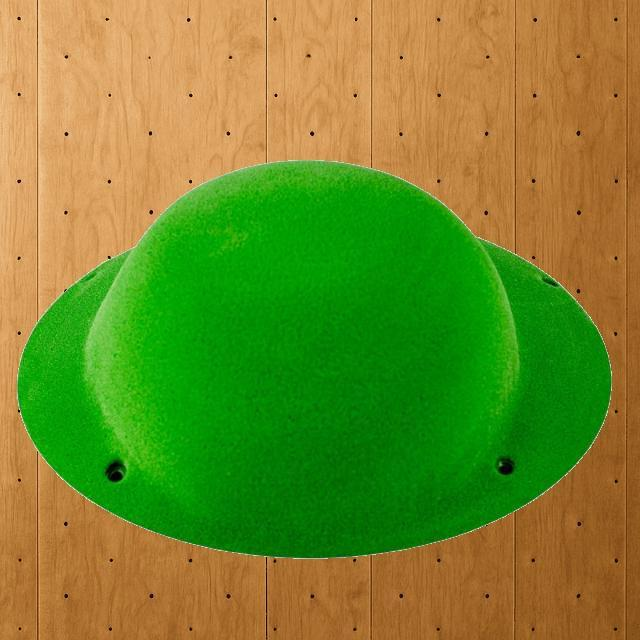Sloper: (16, 157, 612, 558)
